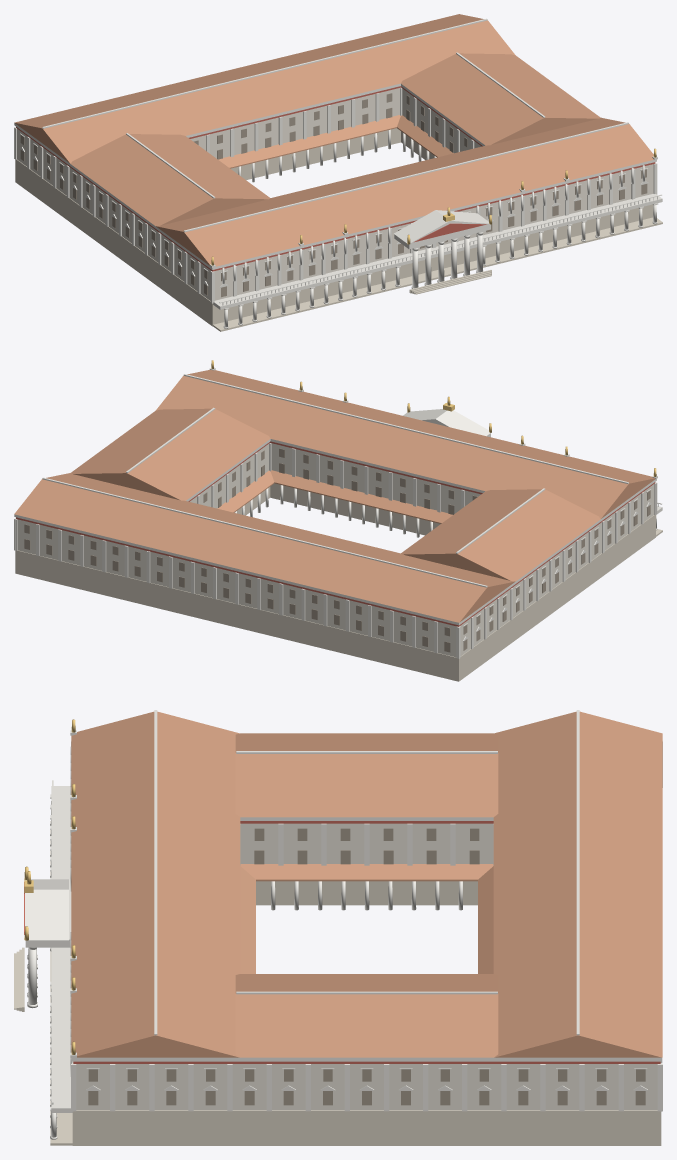
File: tiberiana.glb
The picture shows the model from 3 angles, top to bottom: view 1: azimuth 30°, elevation 25°; view 2: azimuth 150°, elevation 25°; view 3: azimuth 270°, elevation 25°; orthographic projection. The views are drawn at different scales.
Parts seen in each view (by area): view 1: roof, marble, plaster, stone, void, red; view 2: roof, plaster, stone, marble, void, red; view 3: roof, plaster, stone, marble, void, red, gold.
Boxes of the visible parts, <box> form: roof: <box>14,14,653,266</box>; marble: <box>14,18,662,328</box>; plaster: <box>17,88,653,300</box>; stone: <box>15,128,662,331</box>; void: <box>20,93,647,297</box>; red: <box>16,86,655,271</box>; roof: <box>14,369,655,622</box>; plaster: <box>17,443,654,657</box>; stone: <box>15,483,662,681</box>; marble: <box>14,368,662,658</box>; void: <box>24,448,650,652</box>; red: <box>16,441,655,626</box>; roof: <box>71,711,662,1057</box>; plaster: <box>76,823,657,1110</box>; stone: <box>14,821,661,1145</box>; marble: <box>25,710,662,1139</box>; void: <box>88,828,660,1105</box>; red: <box>24,821,660,1063</box>; gold: <box>24,719,75,1054</box>.
Bounding box in the file's own units: 131 × 21.2 × 111.
